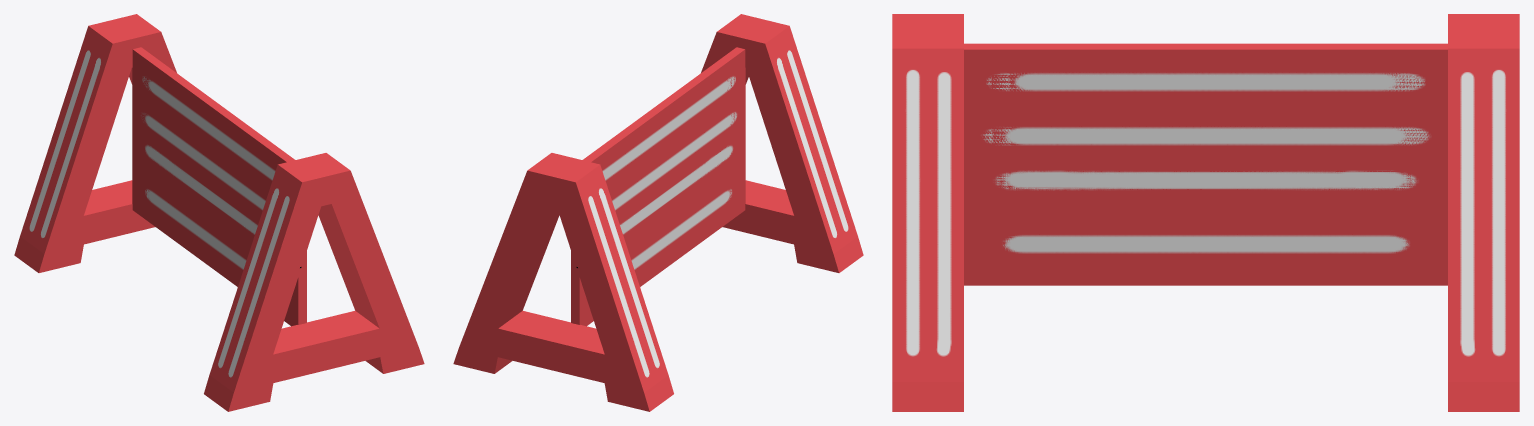
Rendered from sinalizador.fbx.
The picture shows the model from 3 angles, left to right: view 1: azimuth 30°, elevation 25°; view 2: azimuth 150°, elevation 25°; view 3: azimuth 270°, elevation 25°; orthographic projection. The views are drawn at different scales.
Visible parts, largest first — view 1: sinalizador.001; view 2: sinalizador.001; view 3: sinalizador.001.
Part boxes in pixels (left/top/right/bottom): sinalizador.001: left=14, top=14, right=424, bottom=411; sinalizador.001: left=453, top=14, right=863, bottom=411; sinalizador.001: left=892, top=14, right=1519, bottom=411.
Size of the model in its own units: 289 by 298 by 546.
